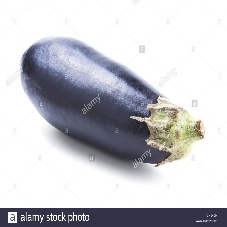eggplant: (22, 34, 195, 165)
